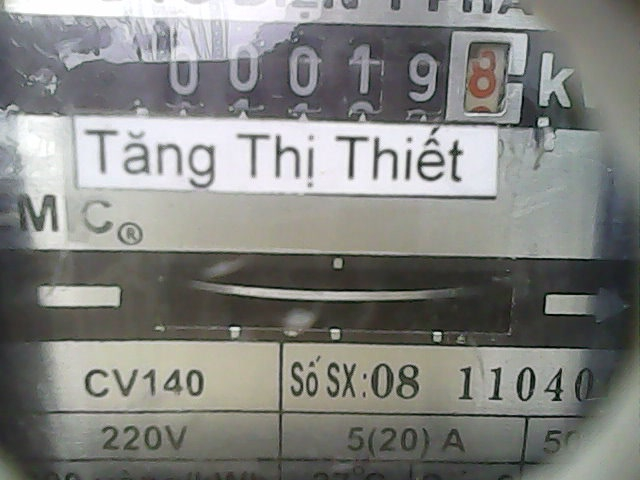phy_plate: (159, 15, 535, 132)
